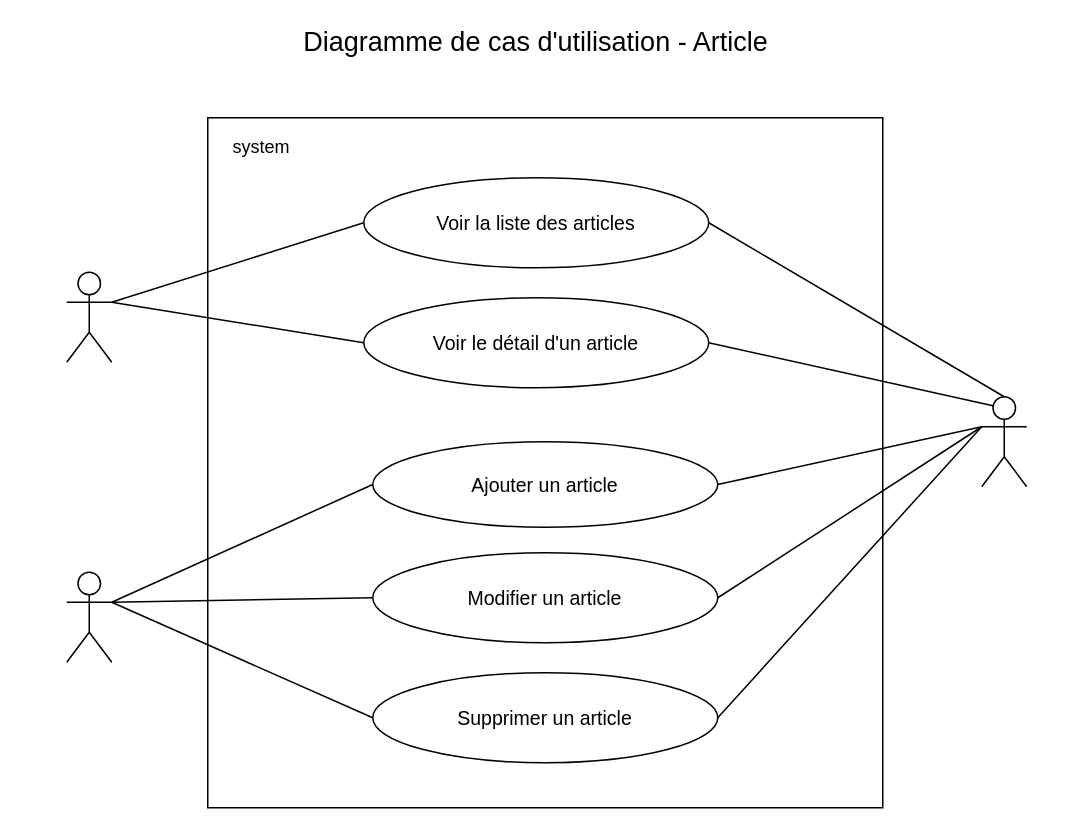
Image size: 1089x834. Some labels were removed from this diagram. The box of each missing label's shape, as (x1, y1, x2, y2) in pixels:
<<systeme>> BDD: (980, 395, 1027, 487)
Administrateur: (65, 571, 112, 662)
Utilisateur: (65, 271, 112, 362)
